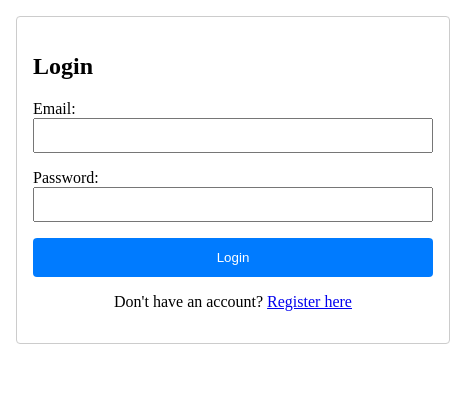
Login Page › shows validation errors when fields are empty
Click the button "Login": (233, 257) [33,238,433,277]
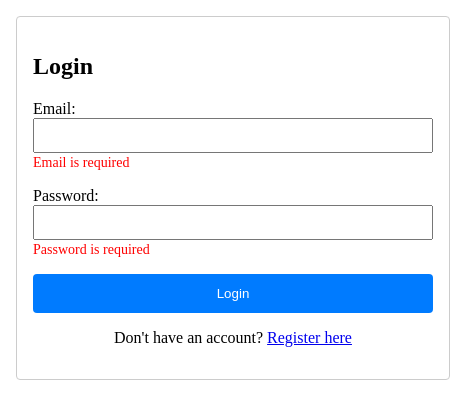
Now the text "Email is required" is shown, box [33,155,129,170]
Now the text "Password is required" is shown, box [33,242,150,257]
